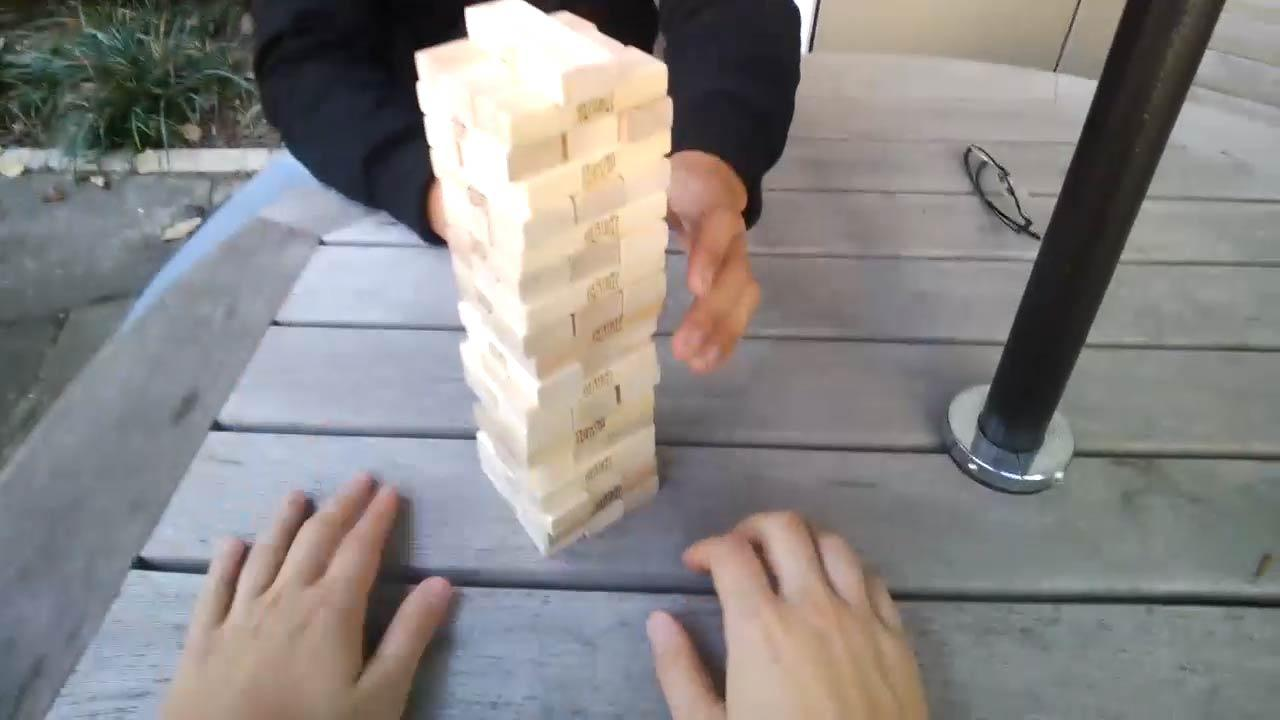hand: (161, 469, 479, 720), (637, 492, 959, 720), (667, 151, 779, 392)
